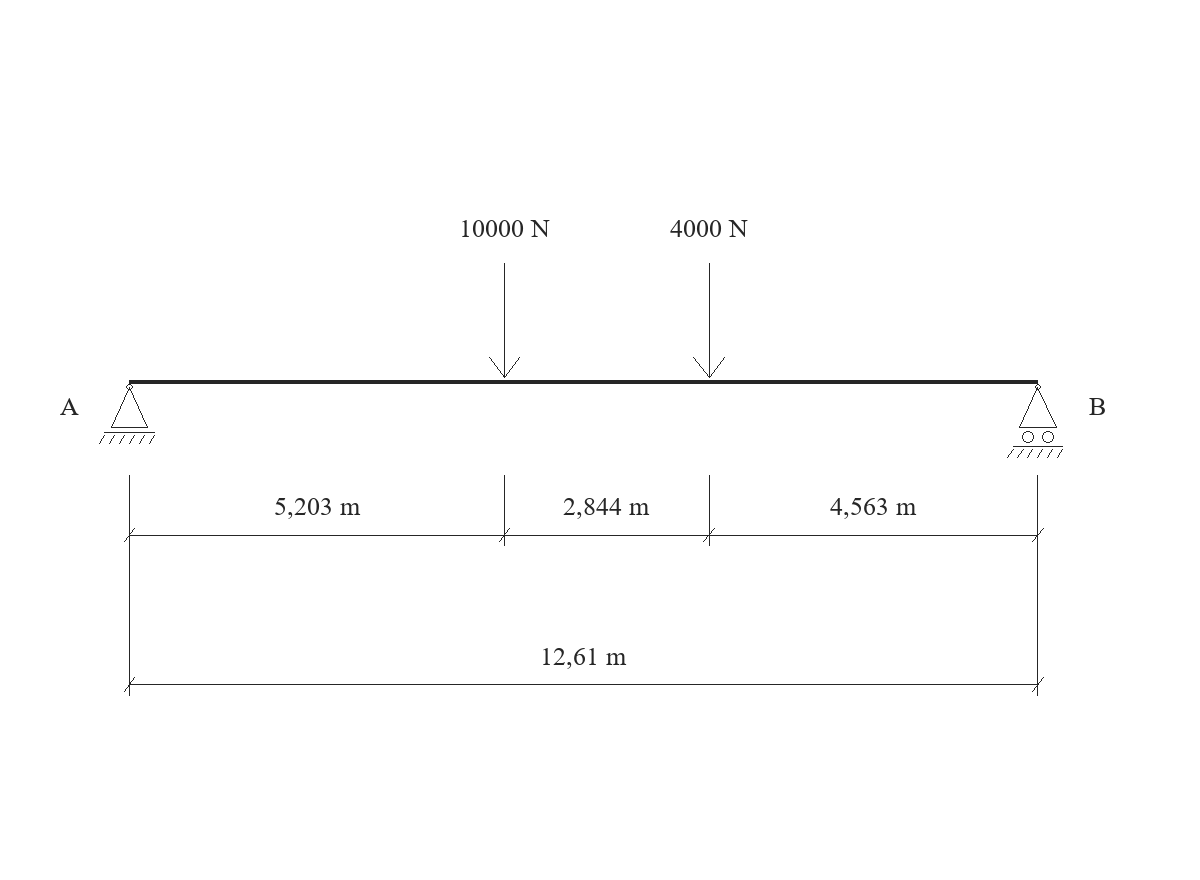pin_support: (99, 384, 155, 444)
point_load: (693, 263, 725, 378), (489, 263, 520, 378)
roller_support: (1007, 384, 1063, 458)
